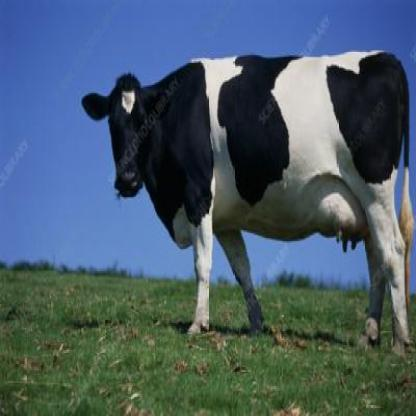lower: (119, 192, 139, 196)
mouth: (115, 168, 143, 198)
upper: (123, 176, 130, 183)
